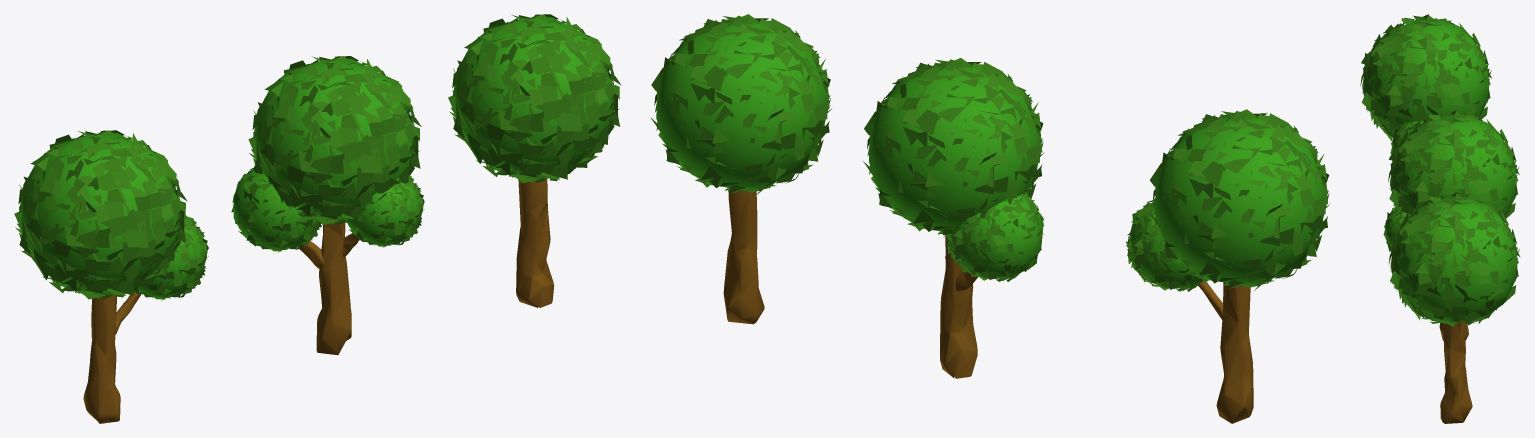
The model's file is arboles_game.fbx.
The picture shows the model from 3 angles, left to right: view 1: azimuth 30°, elevation 25°; view 2: azimuth 150°, elevation 25°; view 3: azimuth 270°, elevation 25°; orthographic projection. The views are drawn at different scales.
Parts seen in each view (by area): view 1: circle_bush_low, circle_bush_low005, circle_bush_low002, circle_bush_low003, arbol3_tronco_low, arbol1_tronco_low, arbol2_tronco_low, circle_bush_low004, circle_bush_low001; view 2: circle_bush_low005, circle_bush_low, circle_bush_low002, circle_bush_low003, arbol2_tronco_low, arbol1_tronco_low, arbol3_tronco_low, circle_bush_low001; view 3: circle_bush_low005, circle_bush_low, circle_bush_low002, arbol1_tronco_low, circle_bush_low004, circle_bush_low001.
Part boxes in pixels (left/top/right/bottom): circle_bush_low: left=14, top=130, right=187, bottom=299; circle_bush_low005: left=448, top=14, right=621, bottom=183; circle_bush_low002: left=248, top=56, right=421, bottom=224; circle_bush_low003: left=231, top=165, right=321, bottom=252; arbol3_tronco_low: left=298, top=220, right=359, bottom=355; arbol1_tronco_low: left=516, top=178, right=554, bottom=307; arbol2_tronco_low: left=83, top=291, right=141, bottom=423; circle_bush_low004: left=345, top=175, right=424, bottom=247; circle_bush_low001: left=134, top=214, right=208, bottom=300; circle_bush_low005: left=650, top=14, right=831, bottom=195; circle_bush_low: left=1149, top=109, right=1330, bottom=290; circle_bush_low002: left=863, top=58, right=1044, bottom=237; circle_bush_low003: left=946, top=192, right=1044, bottom=281; arbol2_tronco_low: left=1198, top=281, right=1253, bottom=423; arbol1_tronco_low: left=723, top=190, right=764, bottom=324; arbol3_tronco_low: left=940, top=234, right=978, bottom=378; circle_bush_low001: left=1126, top=198, right=1203, bottom=291; circle_bush_low005: left=1388, top=193, right=1520, bottom=326; circle_bush_low: left=1360, top=14, right=1491, bottom=141; circle_bush_low002: left=1388, top=110, right=1519, bottom=218; arbol1_tronco_low: left=1440, top=322, right=1472, bottom=423; circle_bush_low004: left=1383, top=207, right=1410, bottom=251; circle_bush_low001: left=1390, top=118, right=1432, bottom=154.
Bounding box in the file's own units: 942 × 431 × 279.
